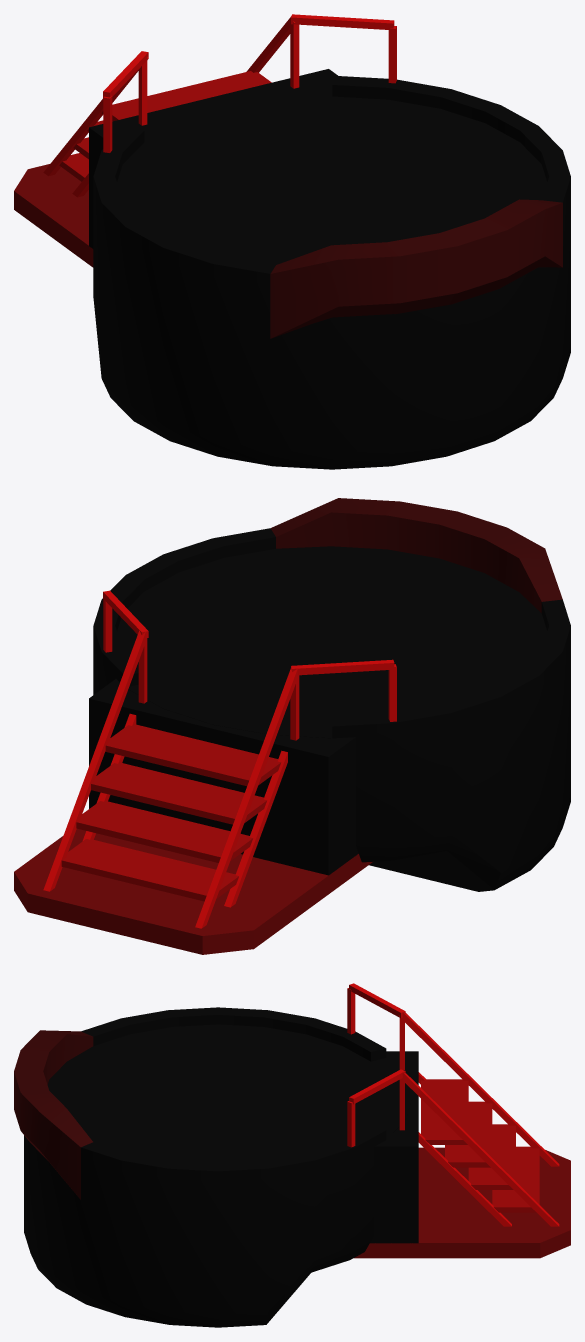
File: weapon_platform_small.glb
3 renders of one model, top to bottom at view 1: azimuth 30°, elevation 25°; view 2: azimuth 150°, elevation 25°; view 3: azimuth 270°, elevation 25°, orthographic. The views are drawn at different scales.
Visible parts, largest first — view 1: Cylinder, Cylinder.001, Cube.005, Cube.002, Cube.001, Cube.003, Cube, Cube.004; view 2: Cylinder, Cube.002, Cube.005, Cube.001, Cylinder.001, Cube, Cube.003, Cube.004; view 3: Cylinder, Cube.005, Cube.002, Cylinder.001, Cube.001, Cube, Cube.003, Cube.004.
Boxes of the visible parts, x1=… form: Cylinder: x1=93, y1=75, x2=570, y2=469; Cylinder.001: x1=270, y1=199, x2=562, y2=338; Cube.005: x1=14, y1=164, x2=93, y2=267; Cube.002: x1=59, y1=71, x2=271, y2=181; Cube.001: x1=89, y1=69, x2=337, y2=248; Cube.003: x1=103, y1=24, x2=396, y2=152; Cube: x1=43, y1=16, x2=294, y2=197; Cube.004: x1=103, y1=14, x2=394, y2=97; Cylinder: x1=93, y1=528, x2=570, y2=891; Cube.002: x1=61, y1=724, x2=281, y2=901; Cube.005: x1=14, y1=828, x2=372, y2=954; Cube.001: x1=89, y1=678, x2=358, y2=875; Cylinder.001: x1=270, y1=498, x2=562, y2=612; Cube: x1=43, y1=630, x2=298, y2=928; Cube.003: x1=103, y1=599, x2=396, y2=740; Cube.004: x1=103, y1=590, x2=394, y2=675; Cylinder: x1=24, y1=1007, x2=411, y2=1327; Cube.005: x1=354, y1=1147, x2=570, y2=1258; Cube.002: x1=421, y1=1079, x2=539, y2=1212; Cylinder.001: x1=14, y1=1030, x2=93, y2=1199; Cube.001: x1=370, y1=1051, x2=418, y2=1243; Cube: x1=398, y1=1012, x2=559, y2=1226; Cube.003: x1=347, y1=988, x2=404, y2=1147; Cube.004: x1=349, y1=983, x2=405, y2=1104.
Bounding box in the file's own units: 3.93 × 2.39 × 5.63.
